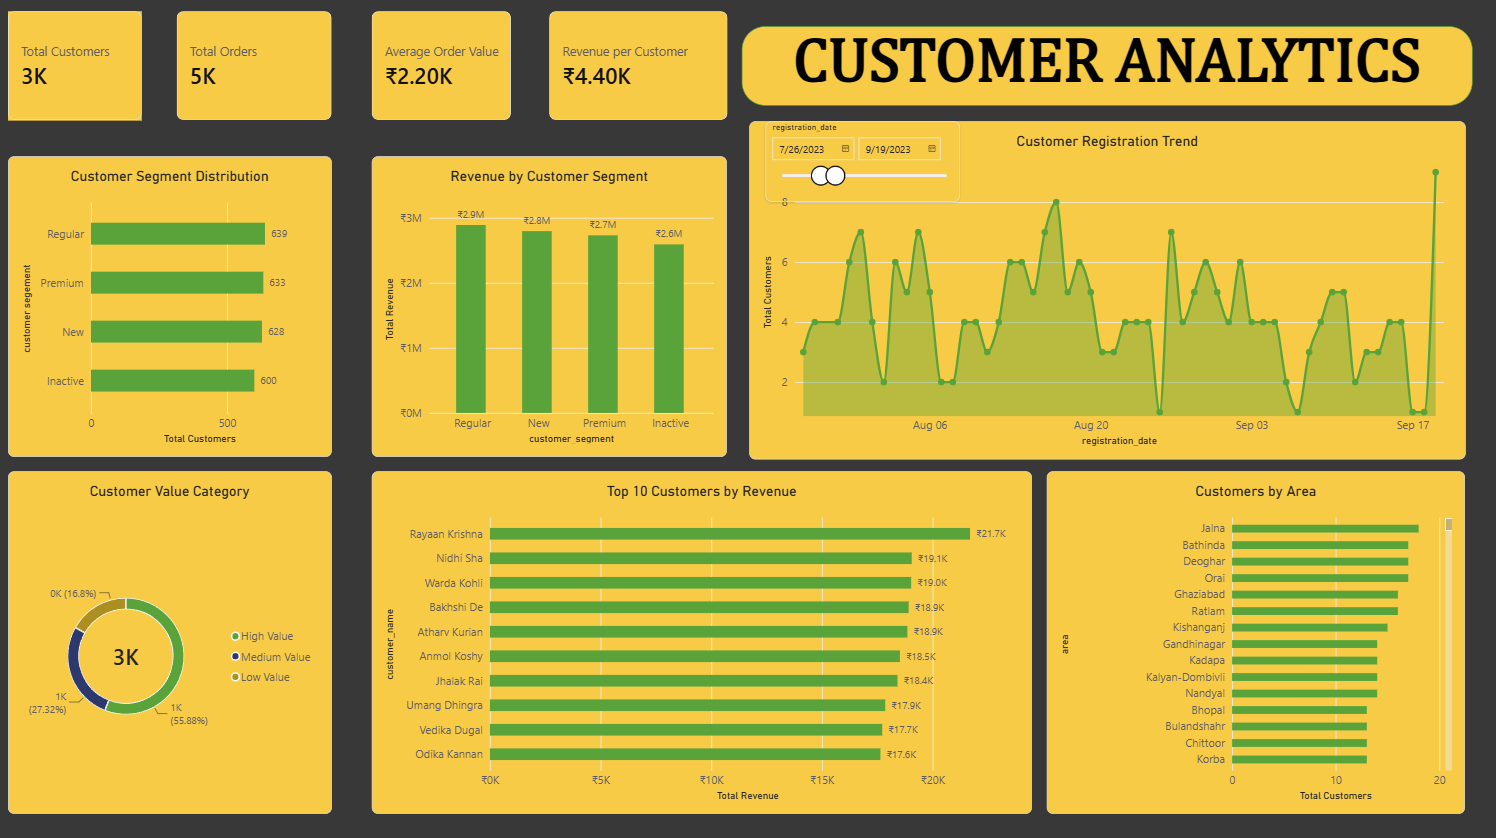

What the dashboard file says about the page in this screenshot:
{"tool":"powerbi","page":{"name":"CUSTOMER ANALYTICS","canvas":[1920,1080],"ordinal":3},"visuals":[{"type":"cardVisual","fields":{"Data":["blinkit_customers.Total Customers"]},"box":[12.9,14.7,171.2,139.9],"z":0},{"type":"cardVisual","fields":{"Data":["blinkit_customers.Revenue per Customer"]},"box":[704.9,14.7,228,139.5],"z":1000},{"type":"cardVisual","fields":{"Data":["blinkit_orders.Average Order Value"]},"box":[478.7,15.1,178.5,139.9],"z":2000},{"type":"cardVisual","fields":{"Data":["blinkit_orders.Total Orders"]},"box":[228.8,14.7,198.8,139.9],"z":3000},{"type":"lineChart","title":"Customer Registration Trend","fields":{"Category":["blinkit_customers.registration_date"],"Y":["blinkit_customers.Total Customers"]},"box":[960.7,154.6,916.6,432.5],"z":4000},{"type":"slicer","fields":{"Values":["blinkit_products.category"]},"box":[47.1,288.3,379.1,69.9],"z":5000},{"type":"clusteredBarChart","title":"Customer Segment Distribution","fields":{"Category":["blinkit_customers.customer_segment"],"Y":["blinkit_customers.Total Customers"]},"box":[12.9,200.6,414.1,384.7],"z":6000},{"type":"clusteredColumnChart","title":"Revenue by Customer Segment","fields":{"Category":["blinkit_customers.customer_segment"],"Y":["blinkit_orders.Total Revenue"]},"box":[478.5,200.6,454.6,384.7],"z":7000},{"type":"clusteredBarChart","title":"Top 10 Customers by Revenue","fields":{"Category":["blinkit_customers.customer_name"],"Y":["blinkit_orders.Total Revenue"]},"box":[478.5,603.7,844.8,438],"z":8000},{"type":"slicer","fields":{"Values":["blinkit_customers.registration_date"]},"box":[982.8,154.6,248.5,103.1],"z":9000},{"type":"clusteredBarChart","title":"Customers by Area","fields":{"Category":["blinkit_customers.area"],"Y":["blinkit_customers.Total Customers"]},"box":[1342,603.1,535.6,438],"z":10000},{"type":"donutChart","title":"Customer Value Category","fields":{"Category":["blinkit_customers.Customer_Value_Category"],"Y":["blinkit_customers.Total Customers"]},"box":[12.9,603.7,414.1,438],"z":11000},{"type":"textbox","box":[951.5,33.1,935,101.2],"z":12000}]}

Visuals, with their boxes in screenshot pixels (x1, y1, x2, y2), scaled from the page's 1920x1080 canvas onto the 1496x838 screenshot:
cardVisual - blinkit_customers.Total Customers: bbox(10, 11, 143, 120)
cardVisual - blinkit_customers.Revenue per Customer: bbox(549, 11, 727, 120)
cardVisual - blinkit_orders.Average Order Value: bbox(373, 12, 512, 120)
cardVisual - blinkit_orders.Total Orders: bbox(178, 11, 333, 120)
"Customer Registration Trend" lineChart: bbox(749, 120, 1463, 456)
slicer - blinkit_products.category: bbox(37, 224, 332, 278)
"Customer Segment Distribution" clusteredBarChart: bbox(10, 156, 333, 454)
"Revenue by Customer Segment" clusteredColumnChart: bbox(373, 156, 727, 454)
"Top 10 Customers by Revenue" clusteredBarChart: bbox(373, 468, 1031, 808)
slicer - blinkit_customers.registration_date: bbox(766, 120, 959, 200)
"Customers by Area" clusteredBarChart: bbox(1046, 468, 1463, 808)
"Customer Value Category" donutChart: bbox(10, 468, 333, 808)
textbox: bbox(741, 26, 1470, 104)
